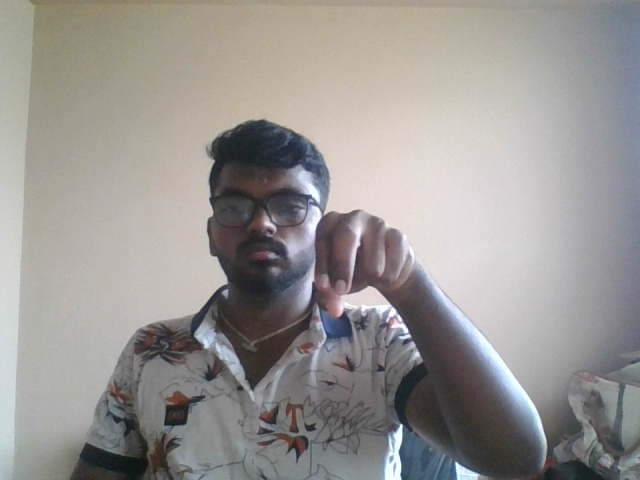No: (299, 195, 454, 363)
